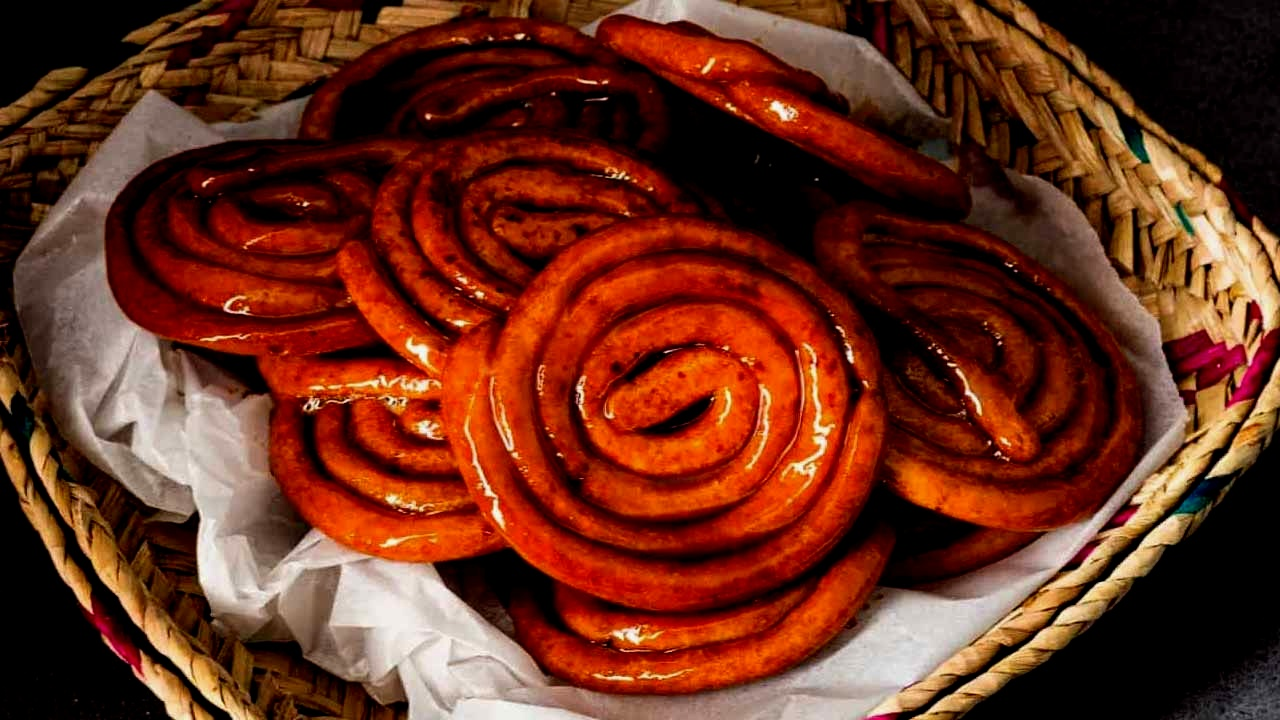pani_walalu: (450, 212, 889, 616), (802, 197, 1142, 535), (99, 133, 420, 353), (370, 126, 710, 333)
